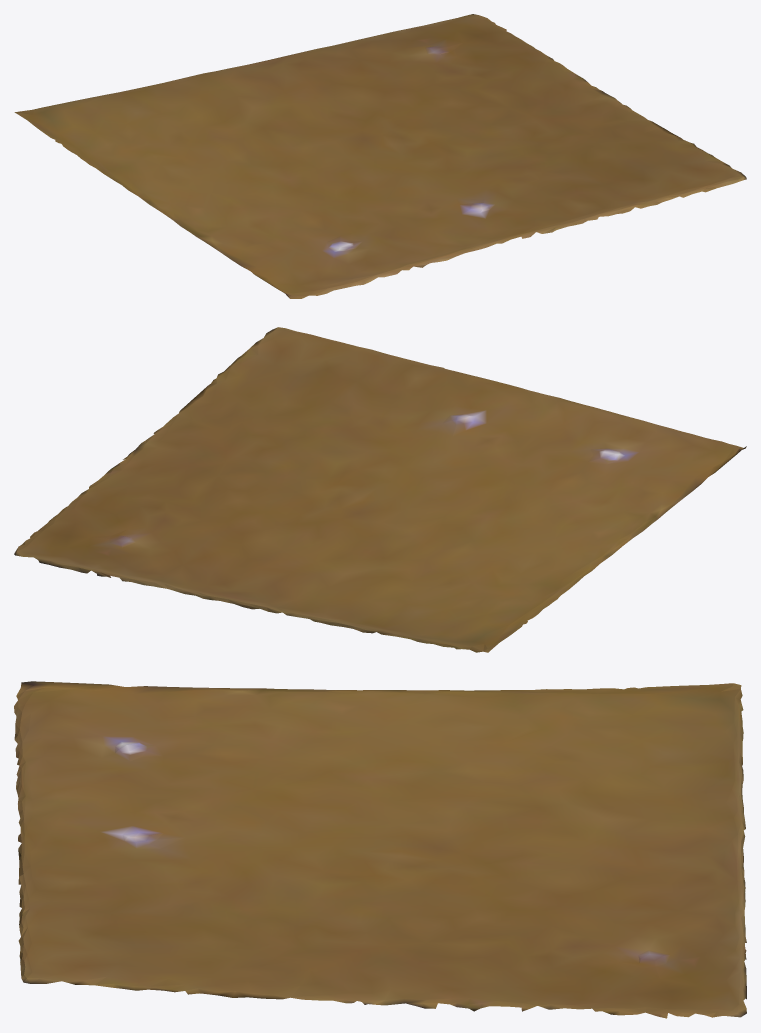
Rendered from scan.obj.
3 renders of one model, top to bottom at view 1: azimuth 30°, elevation 25°; view 2: azimuth 150°, elevation 25°; view 3: azimuth 270°, elevation 25°, orthographic. The views are drawn at different scales.
Parts seen in each view (by area): view 1: scan.ply; view 2: scan.ply; view 3: scan.ply.
Boxes of the visible parts, bbox=[...] form: scan.ply: bbox=[14, 14, 746, 298]; scan.ply: bbox=[14, 327, 746, 652]; scan.ply: bbox=[14, 681, 746, 1018].
Bounding box in the file's own units: 0.138 × 0.00848 × 0.1358.
